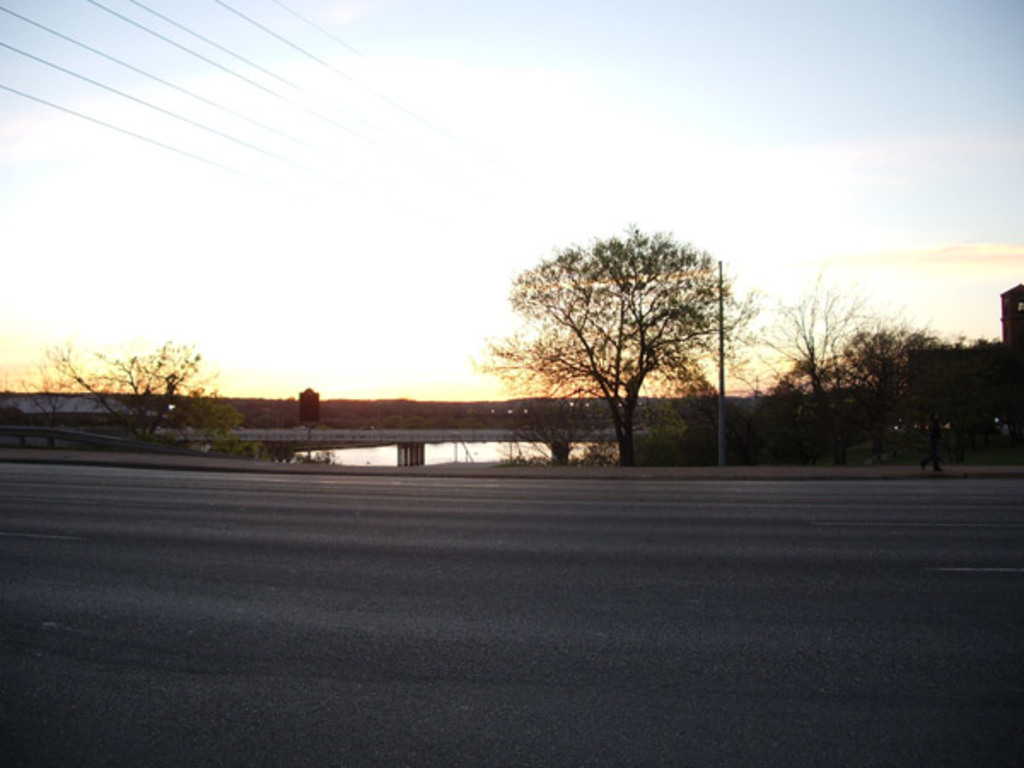Tree: (484, 209, 738, 460), (747, 286, 878, 433), (47, 346, 204, 445), (20, 365, 75, 438), (863, 329, 960, 366)
